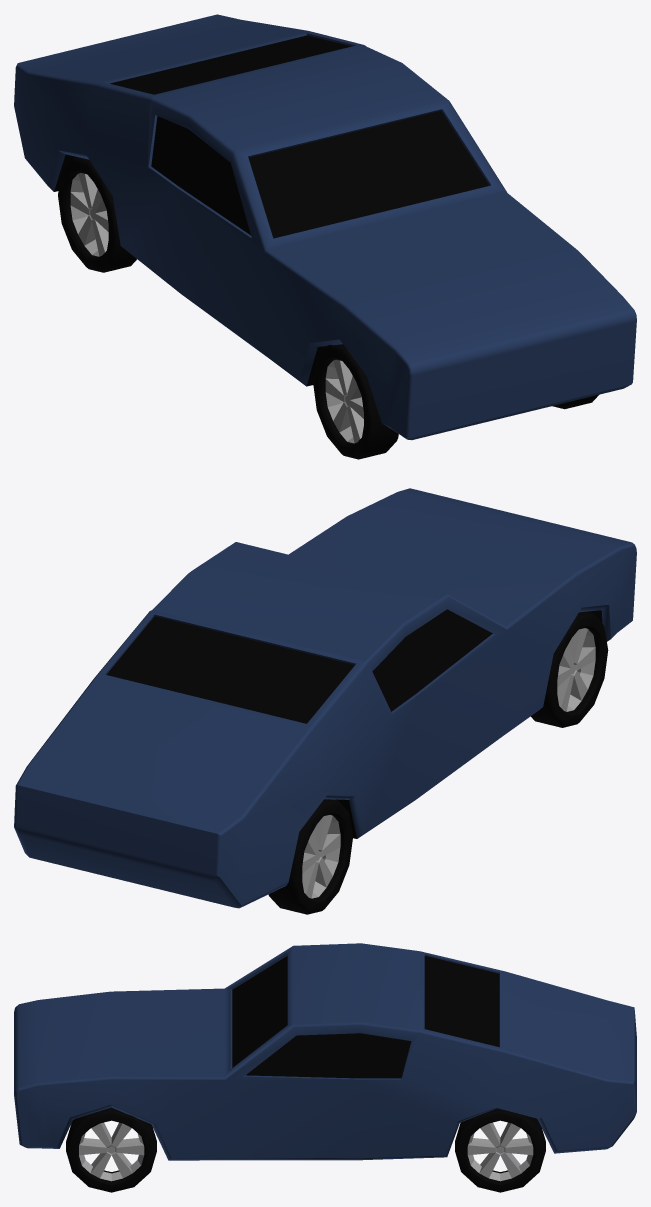
File: carr (2).fbx
The picture shows the model from 3 angles, top to bottom: view 1: azimuth 30°, elevation 25°; view 2: azimuth 150°, elevation 25°; view 3: azimuth 270°, elevation 25°; orthographic projection. The views are drawn at different scales.
Parts seen in each view (by area): view 1: body, polySurface10, polySurface9; view 2: body, polySurface9, polySurface10; view 3: body, polySurface7, polySurface8.
Part boxes in pixels (<box>): body: <box>14,14,636,440</box>; polySurface10: <box>313,344,398,459</box>; polySurface9: <box>58,157,136,272</box>; body: <box>14,488,636,908</box>; polySurface9: <box>268,799,352,914</box>; polySurface10: <box>531,611,608,727</box>; body: <box>14,943,636,1160</box>; polySurface7: <box>455,1108,545,1192</box>; polySurface8: <box>66,1107,156,1192</box>.
Size of the model in its own units: 2.13 by 1.83 by 6.18.
